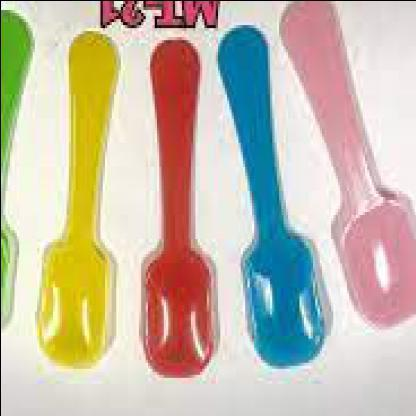Others: (1, 2, 414, 378)
